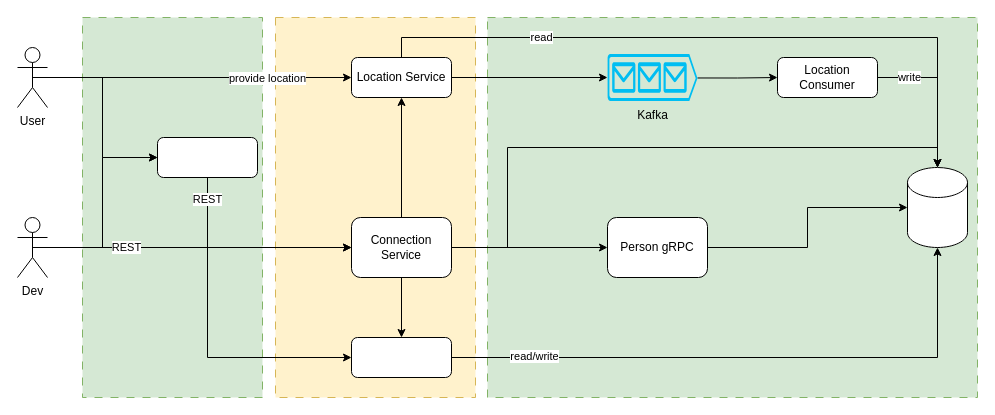
This 995x415 diagram has some shape labels left out. The centre of each missing label's shape, as x and y in pixels:
"frontend :30000" goes at [207,157].
"Persons Service" goes at [401,357].
"Postgres" goes at [937,207].
